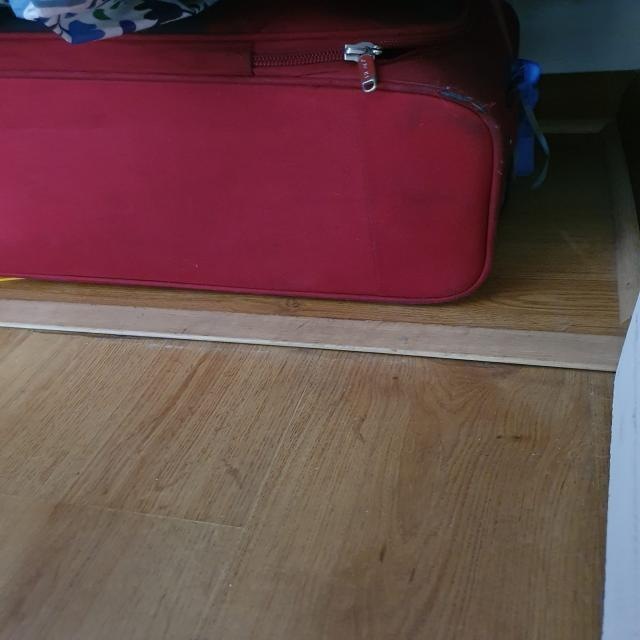Suitcase: (0, 0, 534, 308)
